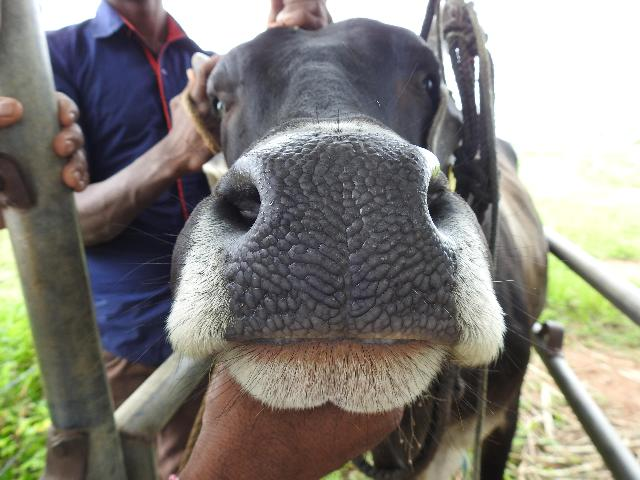Muzzle: (228, 154, 450, 336)
